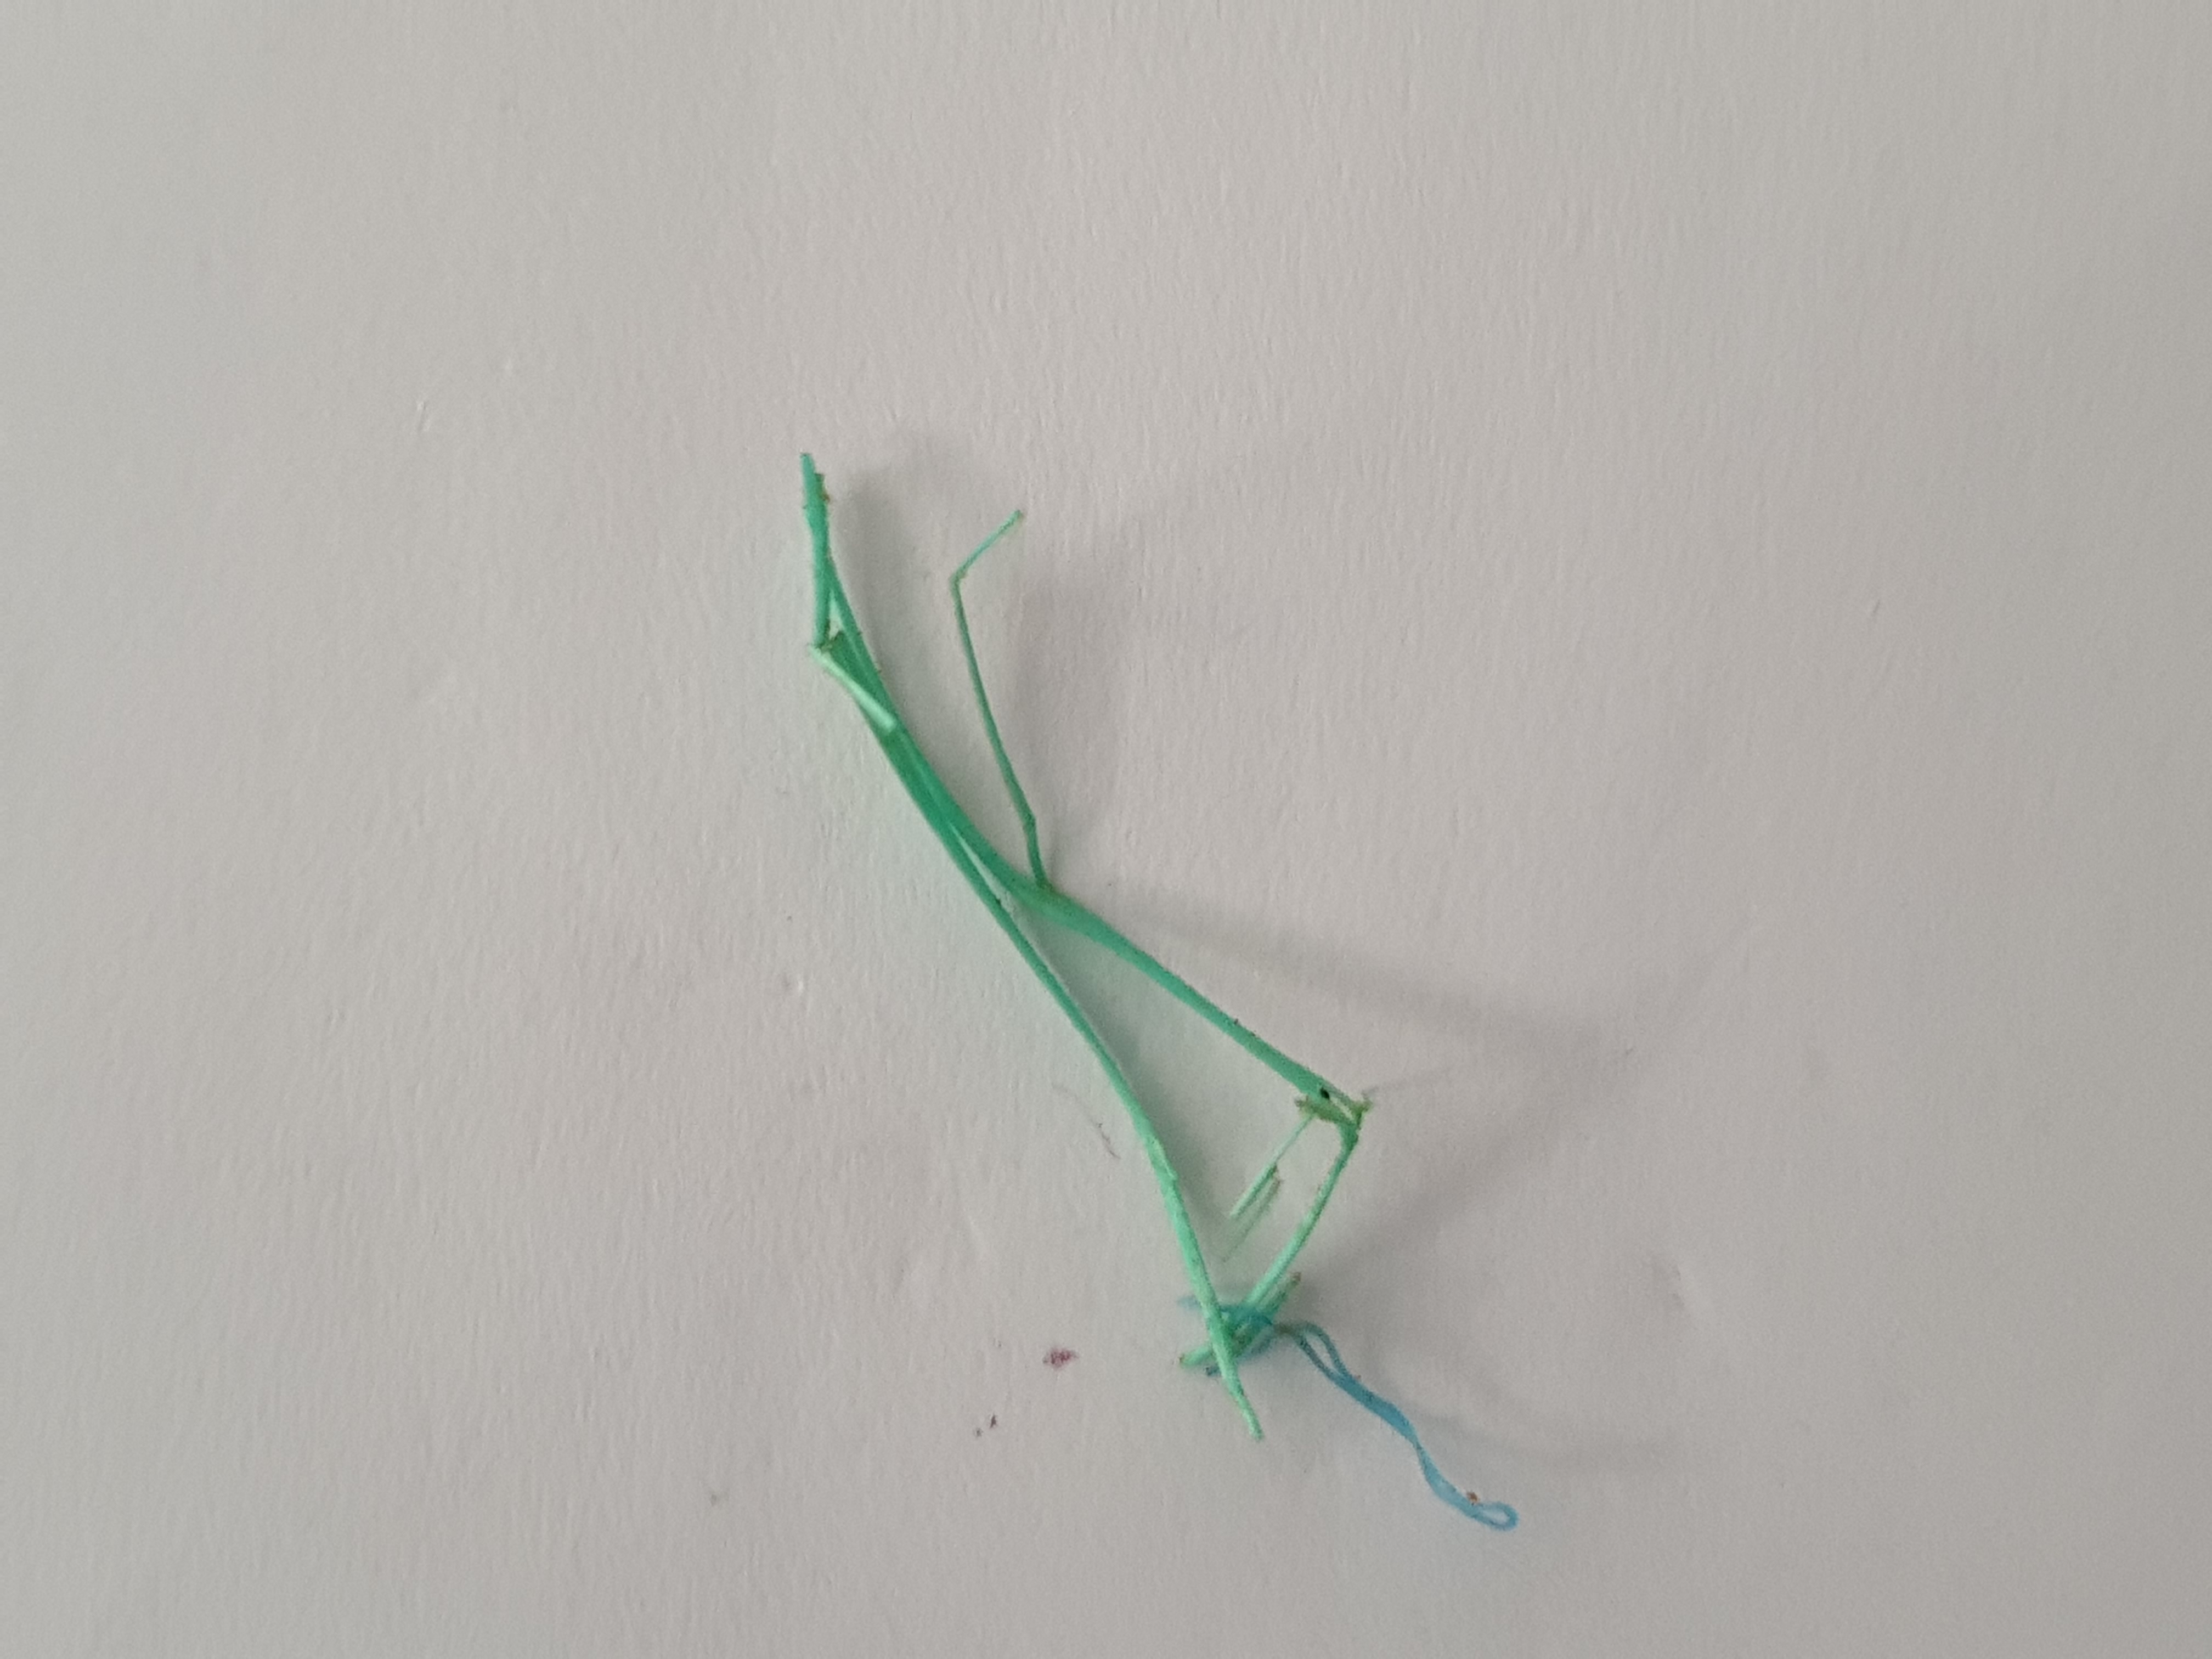thread: (747, 425, 1561, 1547)
